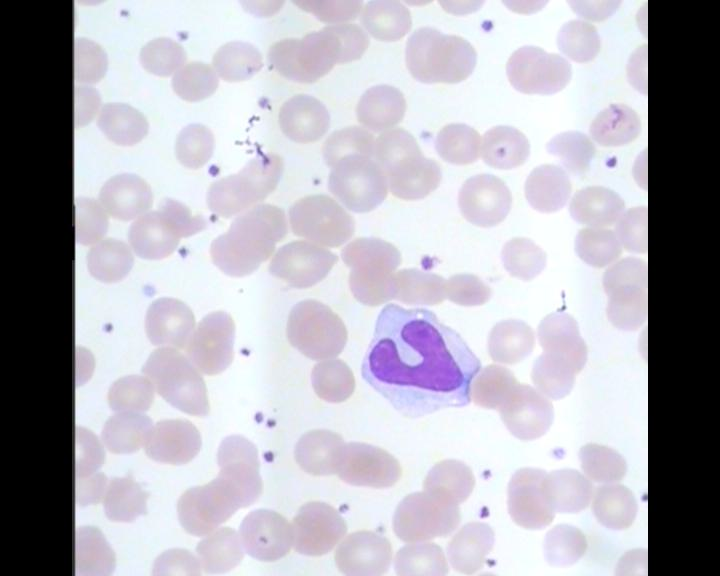mono: (361, 299, 481, 418)
